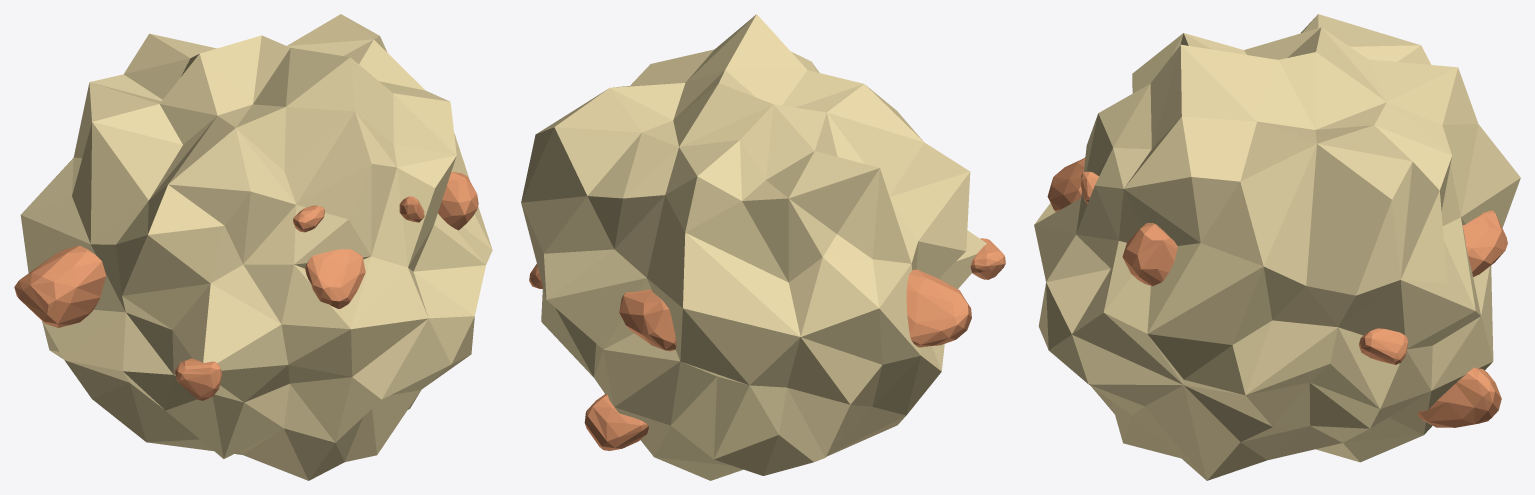
The model's file is StoneOre (12).fbx.
3 renders of one model, left to right at view 1: azimuth 30°, elevation 25°; view 2: azimuth 150°, elevation 25°; view 3: azimuth 270°, elevation 25°, orthographic. The views are drawn at different scales.
Parts seen in each view (by area): view 1: Asteroid299; view 2: Asteroid299; view 3: Asteroid299.
Part boxes in pixels (bbox=[...]): Asteroid299: bbox=[14, 14, 492, 480]; Asteroid299: bbox=[521, 14, 1005, 480]; Asteroid299: bbox=[1034, 14, 1520, 480].
Bounding box in the file's own units: 540 × 501 × 506.
